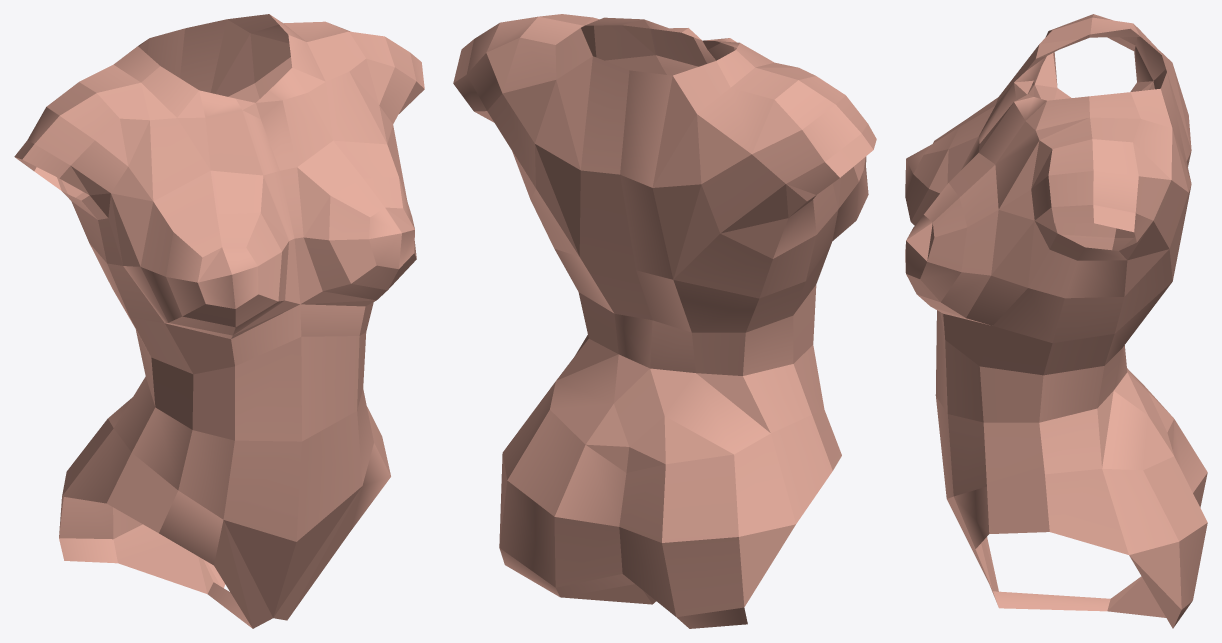
File: cutrmumtorso.fbx
3 views of the same model, side by side, from view 1: azimuth 30°, elevation 25°; view 2: azimuth 150°, elevation 25°; view 3: azimuth 270°, elevation 25° (orthographic). The views are drawn at different scales.
Visible parts, largest first — view 1: mum.015; view 2: mum.015; view 3: mum.015.
Part boxes in pixels (x1,y1,x2,y2): mum.015: (14,14,424,628); mum.015: (453,14,876,628); mum.015: (905,14,1207,628).
Size of the model in its own units: 46.59 by 61.7 by 30.92.
